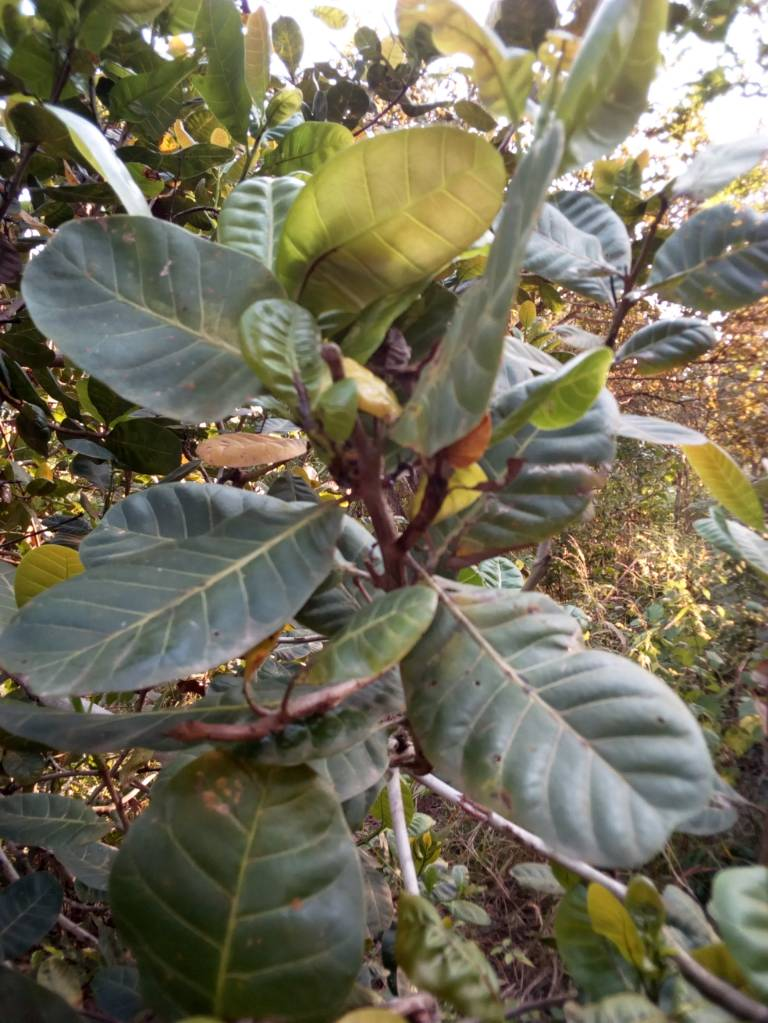Pestalotiose: (446, 586, 705, 869)
